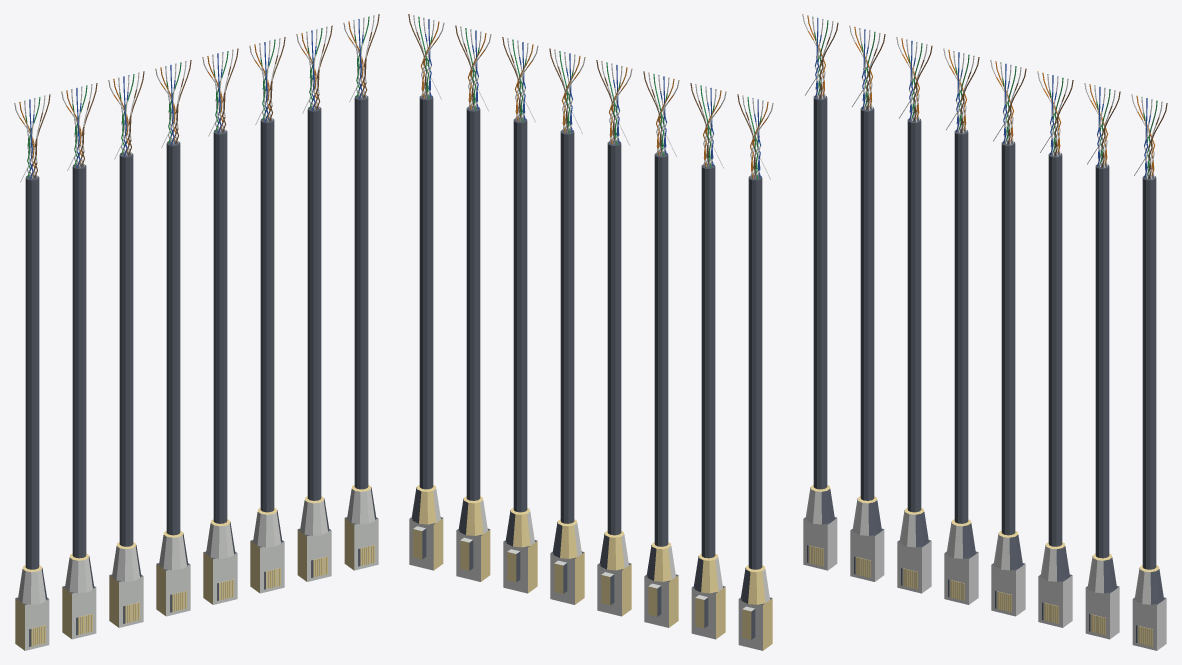
Rendered from UTPCables_x8.fbx.
3 views of the same model, side by side, from view 1: azimuth 30°, elevation 25°; view 2: azimuth 150°, elevation 25°; view 3: azimuth 330°, elevation 25° (orthographic).
Parts seen in each view (by area): view 1: UTPCable_01_Jacket, UTPCable_03_Jacket, UTPCable_08_Jacket, UTPCable_04_Jacket, UTPCable_05_Jacket, UTPCable_06_Jacket, UTPCable_07_Jacket, UTPCable_02_Jacket, UTPCable_01_RJ45Plug, UTPCable_02_RJ45Plug, UTPCable_03_RJ45Plug, UTPCable_04_RJ45Plug (+4 smaller); view 2: UTPCable_01_Jacket, UTPCable_03_Jacket, UTPCable_04_Jacket, UTPCable_06_Jacket, UTPCable_02_Jacket, UTPCable_05_Jacket, UTPCable_08_Jacket, UTPCable_07_Jacket, UTPCable_01_RJ45Plug, UTPCable_02_RJ45Plug, UTPCable_03_RJ45Plug, UTPCable_04_RJ45Plug (+4 smaller); view 3: UTPCable_06_Jacket, UTPCable_08_Jacket, UTPCable_03_Jacket, UTPCable_05_Jacket, UTPCable_01_Jacket, UTPCable_04_Jacket, UTPCable_07_Jacket, UTPCable_02_Jacket, UTPCable_06_RJ45Plug, UTPCable_07_RJ45Plug, UTPCable_08_RJ45Plug, UTPCable_02_RJ45Plug (+4 smaller).
Part boxes in pixels (<box>): UTPCable_01_Jacket: <box>25,175,39,569</box>; UTPCable_03_Jacket: <box>119,152,133,546</box>; UTPCable_08_Jacket: <box>354,94,368,489</box>; UTPCable_04_Jacket: <box>166,140,180,535</box>; UTPCable_05_Jacket: <box>213,129,227,523</box>; UTPCable_06_Jacket: <box>260,117,274,512</box>; UTPCable_07_Jacket: <box>307,106,321,500</box>; UTPCable_02_Jacket: <box>72,163,86,558</box>; UTPCable_01_RJ45Plug: <box>15,565,49,650</box>; UTPCable_02_RJ45Plug: <box>62,553,96,639</box>; UTPCable_03_RJ45Plug: <box>109,542,143,627</box>; UTPCable_04_RJ45Plug: <box>156,530,190,616</box>; UTPCable_01_Jacket: <box>748,174,762,569</box>; UTPCable_03_Jacket: <box>654,151,668,546</box>; UTPCable_04_Jacket: <box>607,140,621,535</box>; UTPCable_06_Jacket: <box>513,117,527,512</box>; UTPCable_02_Jacket: <box>701,163,715,558</box>; UTPCable_05_Jacket: <box>560,128,574,523</box>; UTPCable_08_Jacket: <box>419,94,433,489</box>; UTPCable_07_Jacket: <box>466,106,480,500</box>; UTPCable_01_RJ45Plug: <box>738,565,772,650</box>; UTPCable_02_RJ45Plug: <box>691,553,725,639</box>; UTPCable_03_RJ45Plug: <box>644,542,678,627</box>; UTPCable_04_RJ45Plug: <box>597,530,631,616</box>; UTPCable_06_Jacket: <box>1048,151,1062,546</box>; UTPCable_08_Jacket: <box>1142,174,1156,569</box>; UTPCable_03_Jacket: <box>907,117,921,512</box>; UTPCable_05_Jacket: <box>1001,140,1015,535</box>; UTPCable_01_Jacket: <box>813,94,827,489</box>; UTPCable_04_Jacket: <box>954,128,968,523</box>; UTPCable_07_Jacket: <box>1095,163,1109,558</box>; UTPCable_02_Jacket: <box>860,106,874,500</box>; UTPCable_06_RJ45Plug: <box>1038,542,1072,627</box>; UTPCable_07_RJ45Plug: <box>1085,553,1119,639</box>; UTPCable_08_RJ45Plug: <box>1132,565,1166,650</box>; UTPCable_02_RJ45Plug: <box>850,496,884,581</box>.
Bounding box in the file's own units: 17.48 × 24.95 × 1.34.
